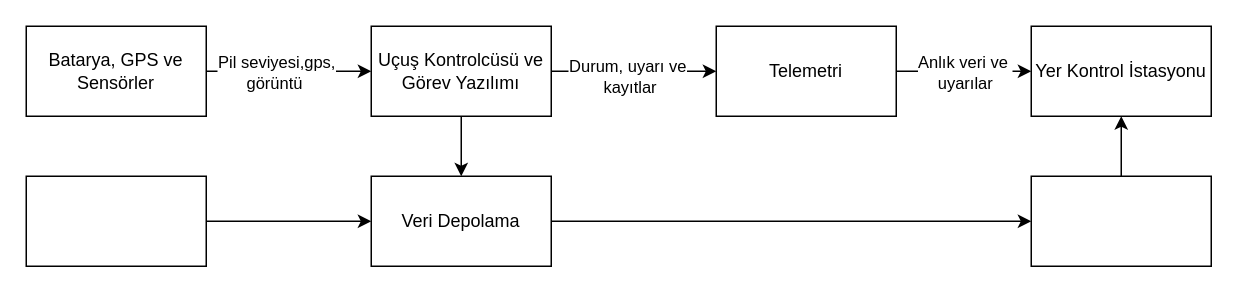
This 1238x293 diagram has some shape labels left out. Each missing label, with the box of its shape:
Görüntü ve Veri Aktarımı: (1030, 175, 1211, 266)
Kamera: (25, 175, 206, 266)
